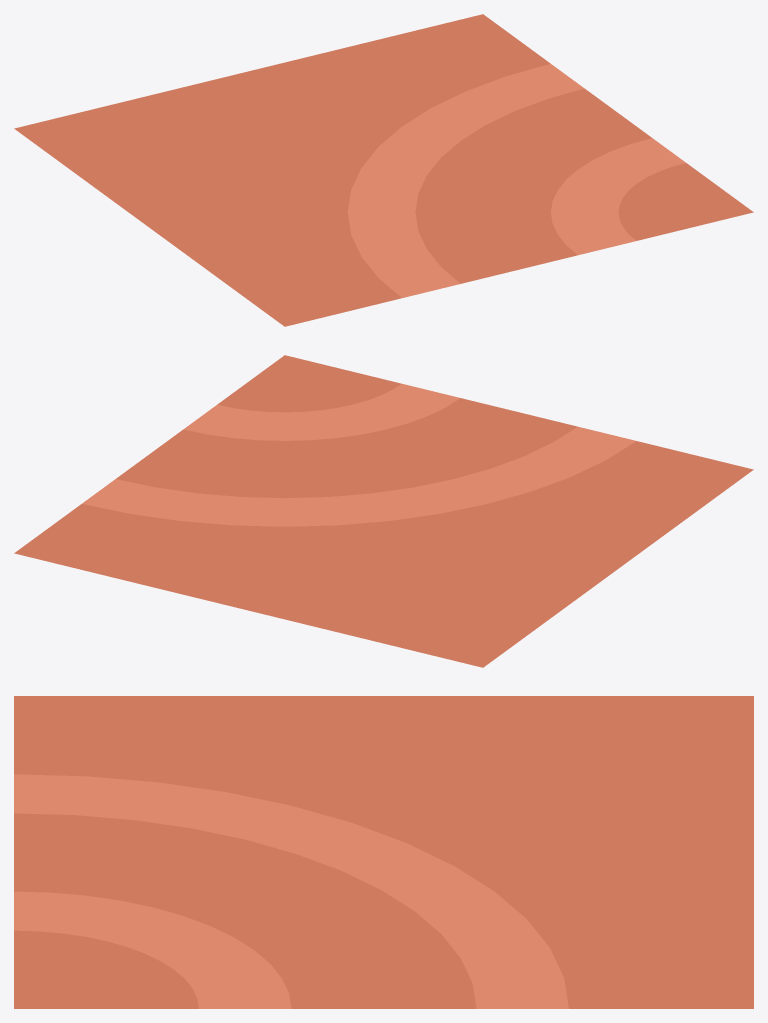
The model's file is terrain_roadCorner.obj.
3 renders of one model, top to bottom at view 1: azimuth 30°, elevation 25°; view 2: azimuth 150°, elevation 25°; view 3: azimuth 270°, elevation 25°, orthographic. The views are drawn at different scales.
Parts seen in each view (by area): view 1: terrain_roadCorner; view 2: terrain_roadCorner; view 3: terrain_roadCorner.
Part boxes in pixels (<box>): terrain_roadCorner: <box>14,14,753,326</box>; terrain_roadCorner: <box>14,355,753,667</box>; terrain_roadCorner: <box>14,696,753,1008</box>.
Bounding box in the file's own units: 1 × 0 × 1.
